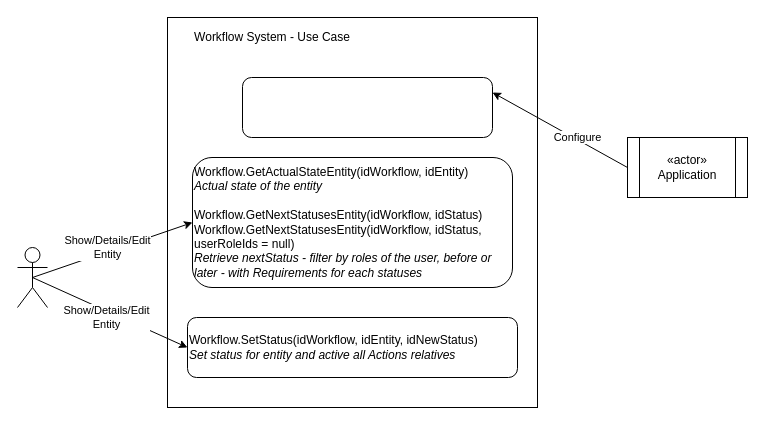
Some shapes in this 765 by 425 pixel diagram are drawn without their labels. The centre of each missing label's shape, as x and y in pixels:
"User" belongs at [32,277].
"Workflow.Configure() Retrieve all workflows fot the applications" belongs at [367,107].
